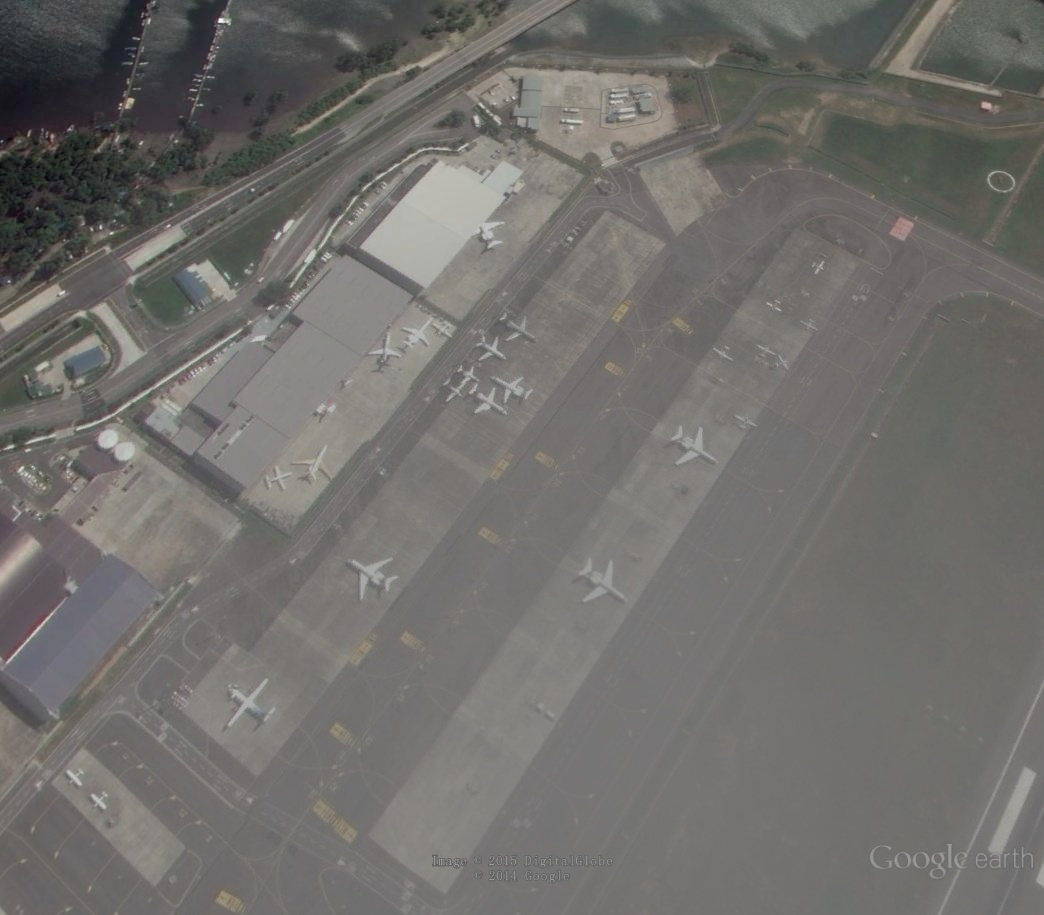aircraft: (223, 675, 282, 732), (573, 555, 633, 609), (343, 555, 400, 606), (288, 442, 336, 489), (669, 424, 718, 469), (466, 382, 514, 420), (487, 373, 537, 409), (495, 310, 543, 346), (471, 219, 508, 255), (400, 318, 436, 355), (367, 331, 405, 364), (472, 333, 511, 364), (262, 462, 297, 495), (436, 375, 469, 405), (448, 363, 484, 388), (708, 342, 736, 369), (63, 766, 90, 792), (430, 321, 457, 343), (732, 412, 760, 433), (772, 351, 795, 375), (90, 792, 112, 816), (754, 340, 778, 361), (796, 316, 820, 336), (763, 297, 789, 315), (808, 259, 831, 277)
